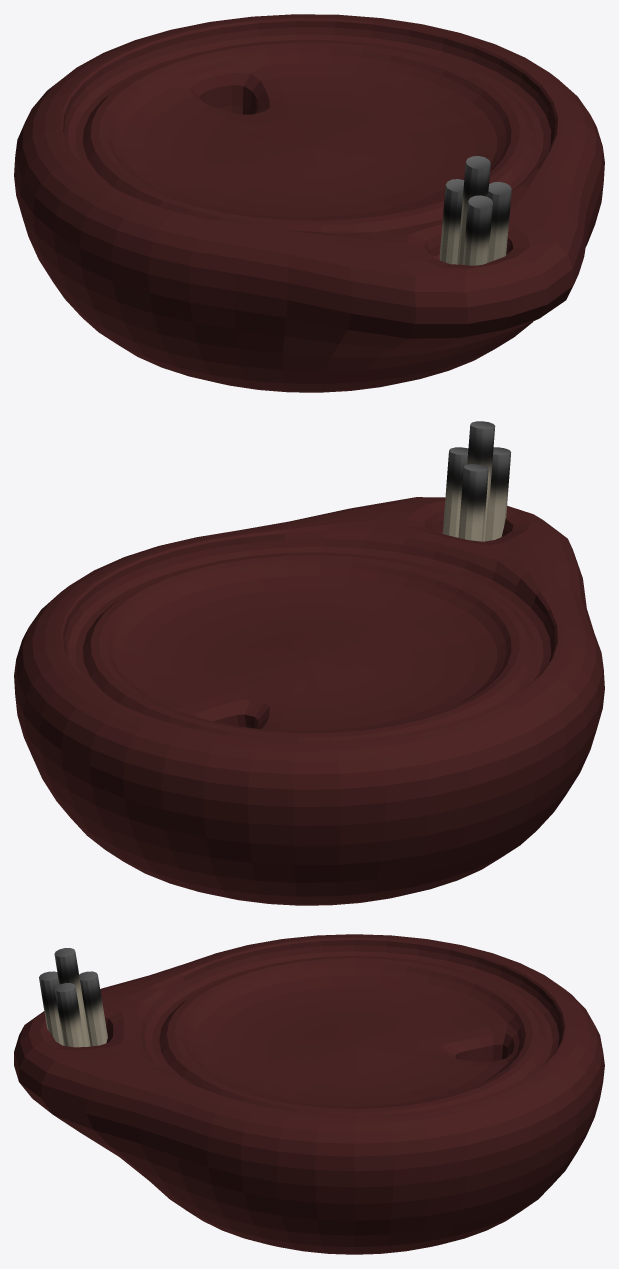
File: LampModel.fbx
The picture shows the model from 3 angles, top to bottom: view 1: azimuth 30°, elevation 25°; view 2: azimuth 150°, elevation 25°; view 3: azimuth 270°, elevation 25°; orthographic projection. The views are drawn at different scales.
Parts seen in each view (by area): view 1: Sphere.001, Cylinder.010, Cylinder.008, Cylinder.007, Cylinder.011; view 2: Sphere.001, Cylinder.008, Cylinder.010, Cylinder.007, Cylinder.011; view 3: Sphere.001, Cylinder.008, Cylinder.007, Cylinder.011, Cylinder.010.
Part boxes in pixels (box(x1,y1,x2,y2)): Sphere.001: box(14, 14, 604, 392); Cylinder.010: box(462, 195, 492, 265); Cylinder.008: box(439, 179, 464, 264); Cylinder.007: box(488, 181, 511, 262); Cylinder.011: box(457, 156, 490, 264); Sphere.001: box(14, 497, 604, 905); Cylinder.008: box(458, 464, 488, 541); Cylinder.010: box(486, 447, 511, 541); Cylinder.007: box(442, 447, 468, 537); Cylinder.011: box(467, 421, 495, 541); Sphere.001: box(14, 934, 604, 1254); Cylinder.008: box(79, 971, 107, 1046); Cylinder.007: box(54, 983, 85, 1047); Cylinder.011: box(54, 948, 90, 1046); Cylinder.010: box(39, 971, 63, 1045).
Size of the model in its own units: 57.86 by 30.67 by 68.26.
